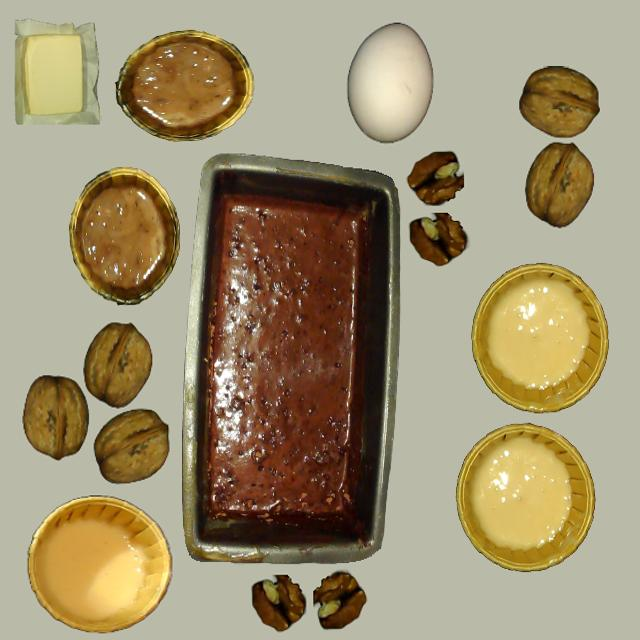Walnut: (509, 136, 606, 237), (524, 143, 594, 229), (519, 65, 599, 138), (84, 322, 152, 407), (94, 409, 168, 483), (23, 377, 88, 458)
